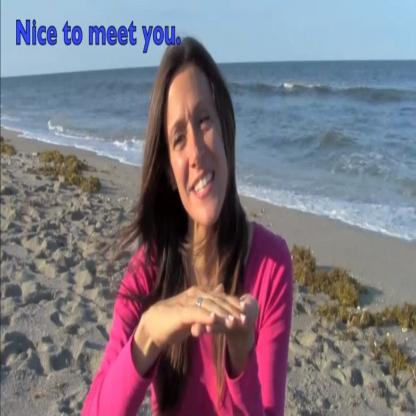NiceToMeetYou: (160, 256, 262, 363)
